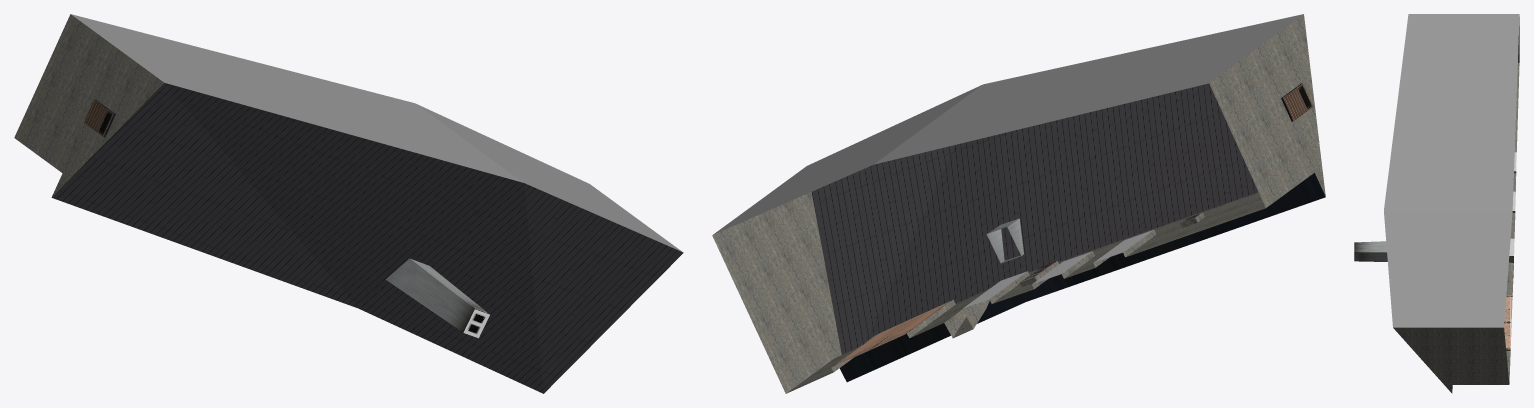
File: Pikk_29a_3.obj
3 views of the same model, side by side, from view 1: azimuth 30°, elevation 25°; view 2: azimuth 150°, elevation 25°; view 3: azimuth 270°, elevation 25° (orthographic). The views are drawn at different scales.
Visible parts, largest first — view 1: Pikk_29a_3; view 2: Pikk_29a_3; view 3: Pikk_29a_3.
Part boxes in pixels (<box>): Pikk_29a_3: <box>14,14,683,393</box>; Pikk_29a_3: <box>712,14,1325,393</box>; Pikk_29a_3: <box>1354,14,1519,393</box>.
Size of the model in its own units: 17.1 by 12.53 by 7.22.
